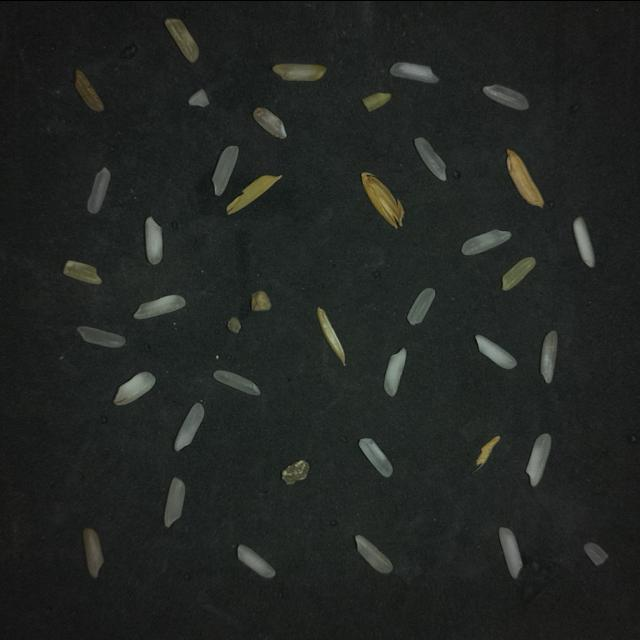broken: (252, 107, 286, 138), (406, 287, 434, 324), (86, 167, 109, 212), (583, 542, 607, 565), (361, 92, 390, 111), (188, 89, 208, 106)
chalky: (113, 371, 155, 404), (475, 334, 515, 368), (236, 544, 274, 577), (498, 527, 521, 578), (571, 216, 594, 266), (383, 347, 405, 396), (389, 62, 438, 82), (144, 216, 162, 263)
discolored: (164, 18, 198, 61), (74, 69, 103, 110), (501, 256, 534, 290), (82, 527, 102, 577), (271, 63, 325, 80), (63, 260, 101, 283), (250, 290, 270, 310), (226, 316, 240, 333)
foreign: (474, 435, 499, 470), (281, 459, 308, 483)
paddy: (360, 172, 402, 227), (226, 174, 281, 213), (506, 149, 543, 206), (316, 307, 344, 364)
whole: (173, 402, 203, 450), (355, 534, 392, 572), (413, 137, 445, 180), (358, 437, 392, 476), (211, 145, 237, 195), (525, 433, 550, 485), (461, 229, 510, 254), (133, 294, 184, 318), (481, 84, 527, 109), (213, 370, 259, 394), (163, 477, 184, 526), (76, 326, 125, 346), (540, 329, 558, 383)
